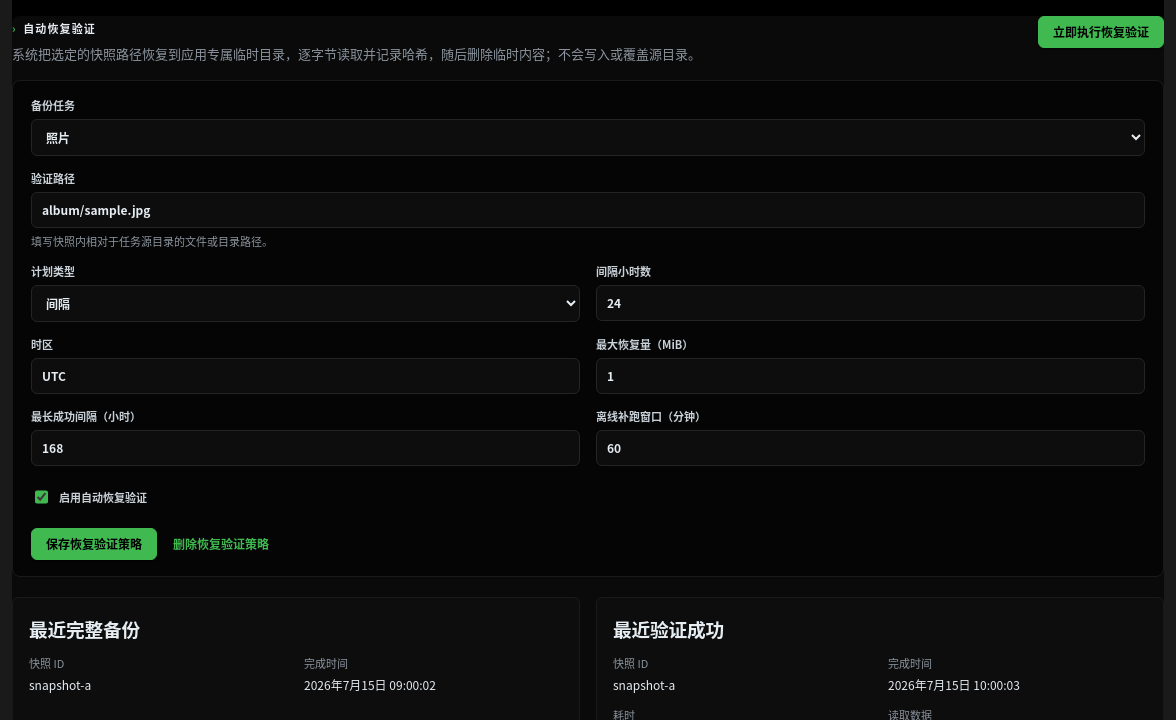
RestoreVerificationPanel › pairs the latest complete backup with durable restore evidence and saves a structured policy
This screenshot has width=1176, height=720.
Expected: the text "snapshot-a" is shown 2 times, top-left (29, 676), bottom-right (91, 693); top-left (613, 676), bottom-right (675, 693)
Type "album/critical.jpg" into the field labelled "验证路径" at (588, 210), box top-left (31, 192), bottom-right (1145, 228)
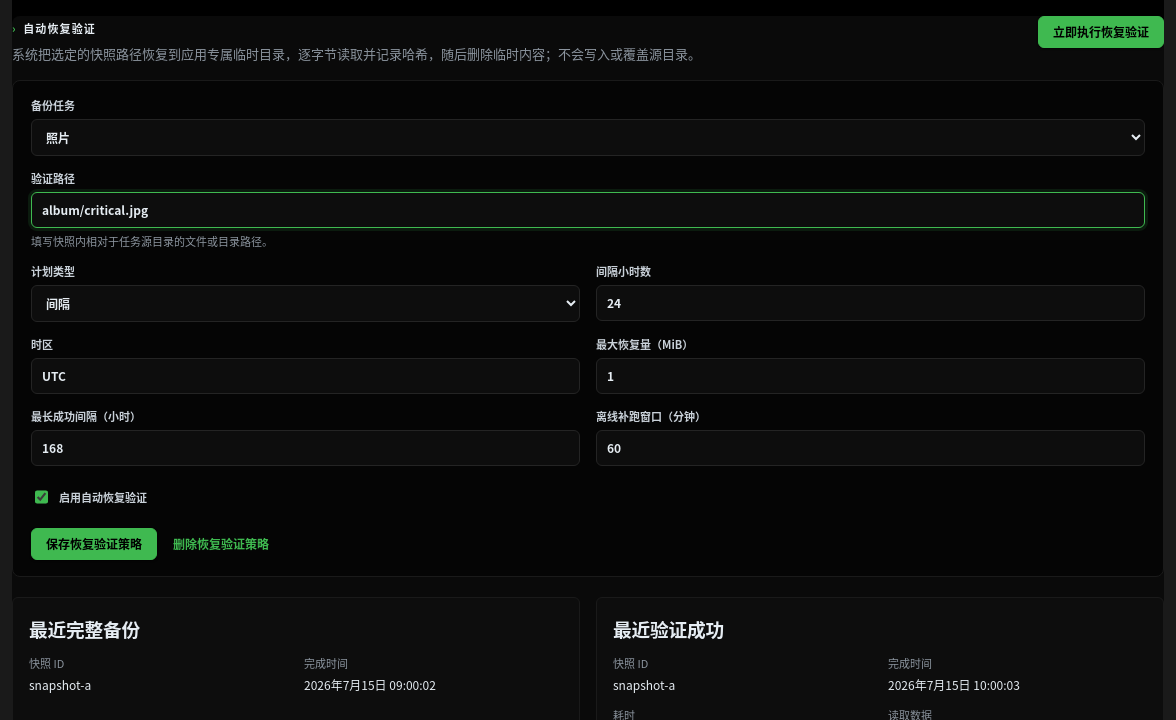
Select "每周" in the dropdown labelled "计划类型" at (306, 304), box top-left (31, 285), bottom-right (580, 322)
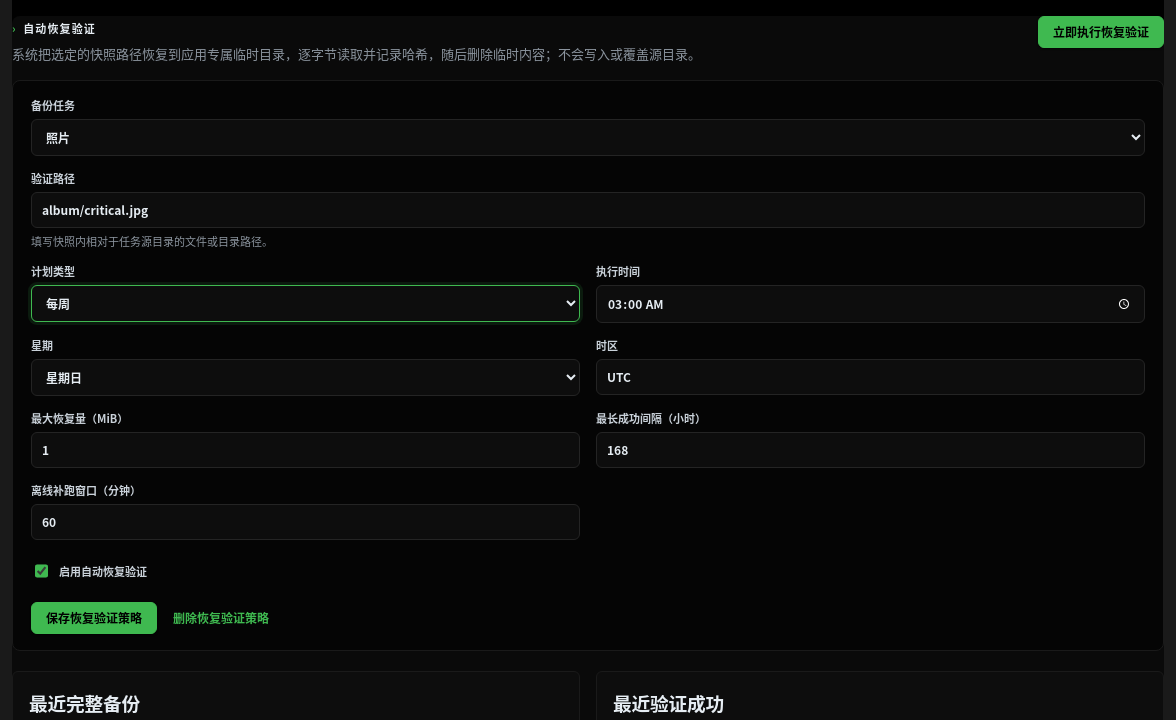
Select "星期一" in the dropdown labelled "星期" at (306, 378), box top-left (31, 359), bottom-right (580, 396)
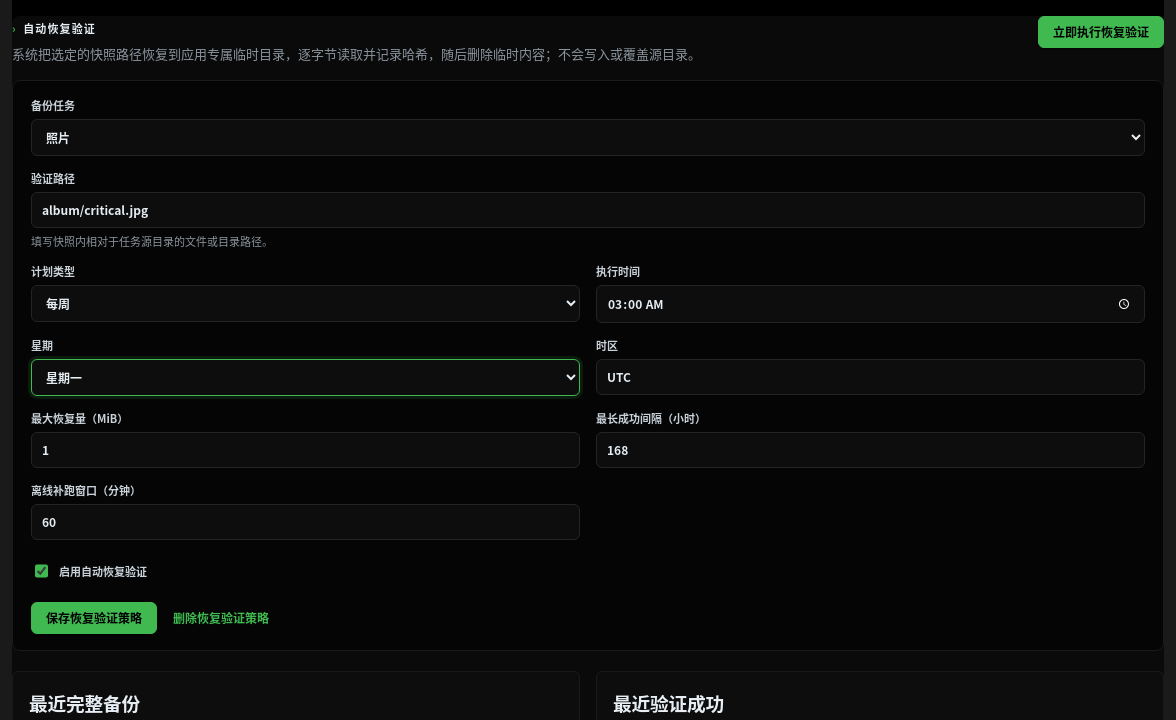
Click the button "保存恢复验证策略" at (94, 618), box top-left (31, 602), bottom-right (157, 634)
(page scrolled)
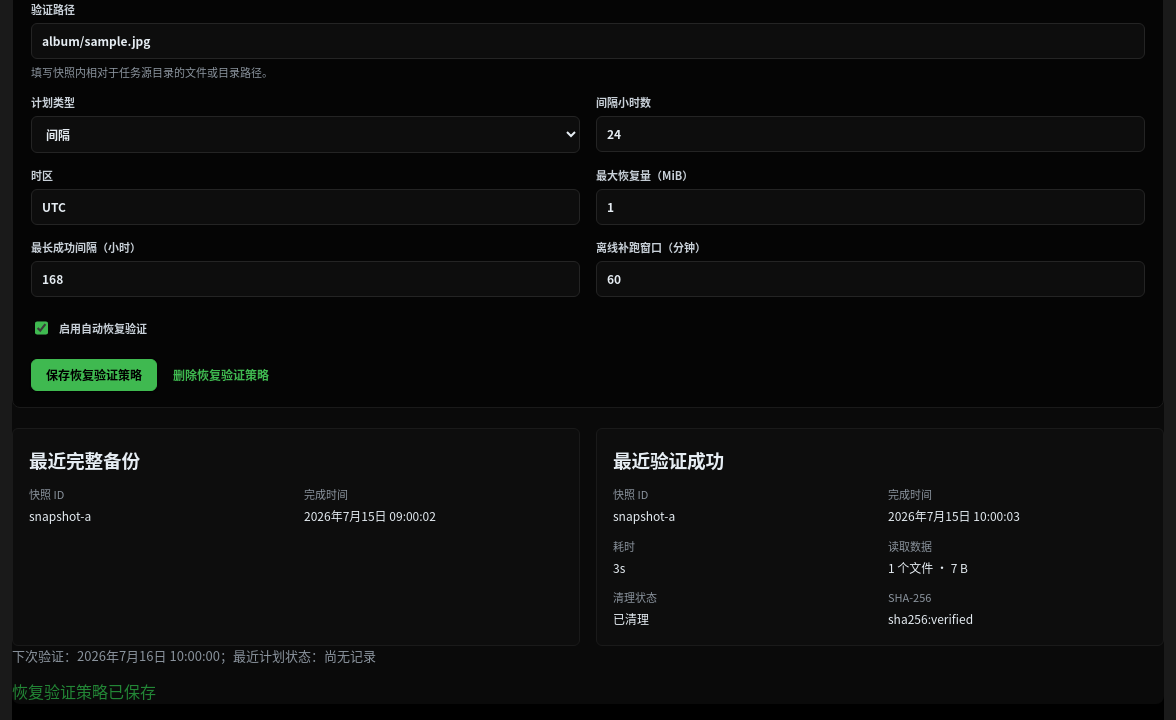
Expected: the text "恢复验证策略已保存" is shown, top-left (12, 679), bottom-right (156, 703)
